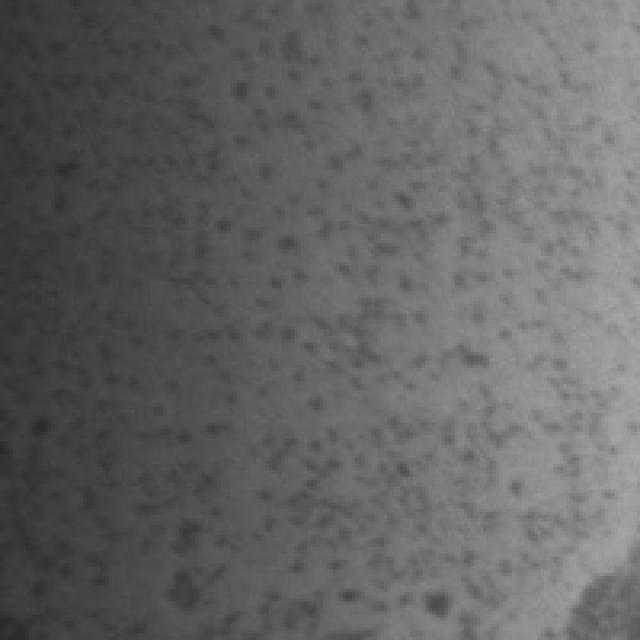pitted_surface: (54, 0, 570, 621), (557, 534, 640, 637)
